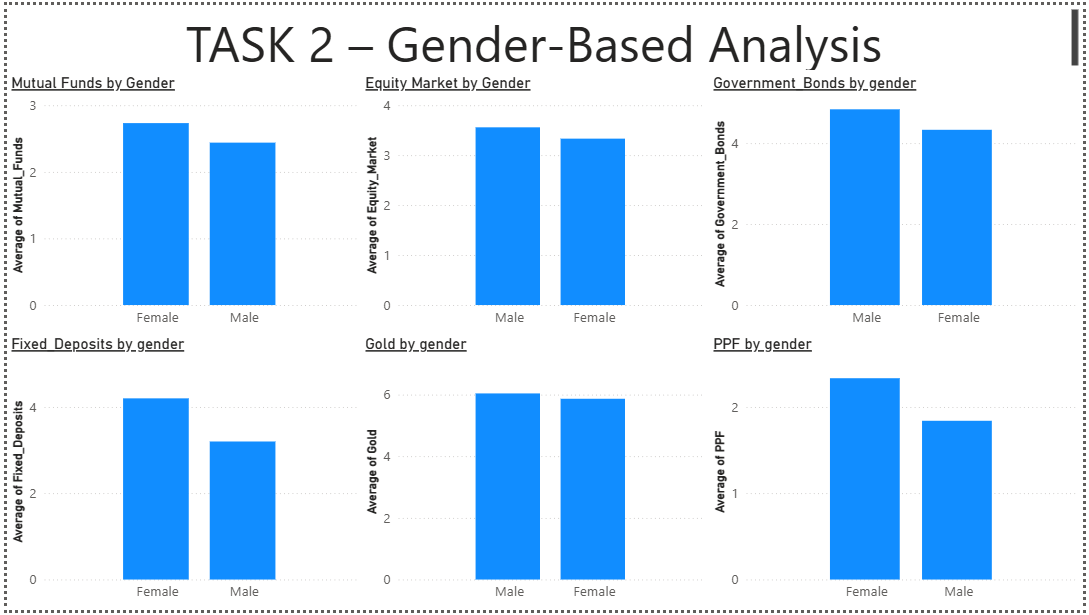

What the dashboard file says about the page in this screenshot:
{"tool":"powerbi","page":{"name":"Gender analysis","canvas":[1280,720],"ordinal":1},"visuals":[{"type":"clusteredColumnChart","title":"Mutual Funds by Gender","fields":{"Category":["Data_set 2 (1).gender"],"Y":["Avg(Data_set 2 (1).Mutual_Funds)"]},"box":[0,82.1,421.4,310.7],"z":0},{"type":"clusteredColumnChart","title":"Equity Market by Gender","fields":{"Category":["Data_set 2 (1).gender"],"Y":["Avg(Data_set 2 (1).Equity_Market)"]},"box":[421.4,82.1,414.3,310.7],"z":1000},{"type":"clusteredColumnChart","title":"Government_Bonds by gender","fields":{"Category":["Data_set 2 (1).gender"],"Y":["Avg(Data_set 2 (1).Government_Bonds)"]},"box":[835.7,82.1,444.6,310.7],"z":2000},{"type":"clusteredColumnChart","title":"Fixed_Deposits by gender","fields":{"Category":["Data_set 2 (1).gender"],"Y":["Avg(Data_set 2 (1).Fixed_Deposits)"]},"box":[0,392.9,421.4,326.8],"z":3000},{"type":"clusteredColumnChart","title":"Gold by gender","fields":{"Category":["Data_set 2 (1).gender"],"Y":["Avg(Data_set 2 (1).Gold)"]},"box":[421.4,392.9,414.3,326.8],"z":4000},{"type":"clusteredColumnChart","title":"PPF by gender","fields":{"Category":["Data_set 2 (1).gender"],"Y":["Avg(Data_set 2 (1).PPF)"]},"box":[835.7,392.9,444.6,326.8],"z":5000},{"type":"textbox","box":[0,0,1280.4,82.1],"z":7000}]}

Visuals, with their boxes in screenshot pixels (x1, y1, x2, y2), scaled from the page's 1280x720 canvas onto the 1089x615 screenshot:
"Mutual Funds by Gender" clusteredColumnChart: {"left": 0, "top": 70, "right": 359, "bottom": 336}
"Equity Market by Gender" clusteredColumnChart: {"left": 359, "top": 70, "right": 711, "bottom": 336}
"Government_Bonds by gender" clusteredColumnChart: {"left": 711, "top": 70, "right": 1088, "bottom": 336}
"Fixed_Deposits by gender" clusteredColumnChart: {"left": 0, "top": 336, "right": 359, "bottom": 614}
"Gold by gender" clusteredColumnChart: {"left": 359, "top": 336, "right": 711, "bottom": 614}
"PPF by gender" clusteredColumnChart: {"left": 711, "top": 336, "right": 1088, "bottom": 614}
textbox: {"left": 0, "top": 0, "right": 1088, "bottom": 70}
